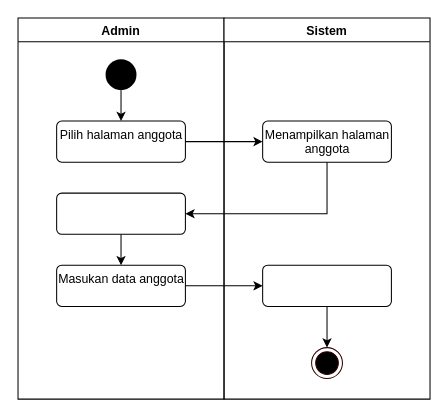
Image size: 448x417. Some labels were removed from this diagram. The shapes that lost their labels are listed below. From the top down, each one's box as (x1, y1, x2, y2) in pixels, then its label:
(56, 192, 185, 234): Tambah anggota
(262, 264, 391, 306): Data ditambahkan
